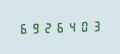four: (65, 19, 76, 33)
nine: (29, 21, 40, 34)
six: (17, 21, 28, 35), (53, 20, 64, 33)
three: (89, 18, 100, 32)
two: (41, 20, 52, 34)
zero: (77, 19, 88, 32)
